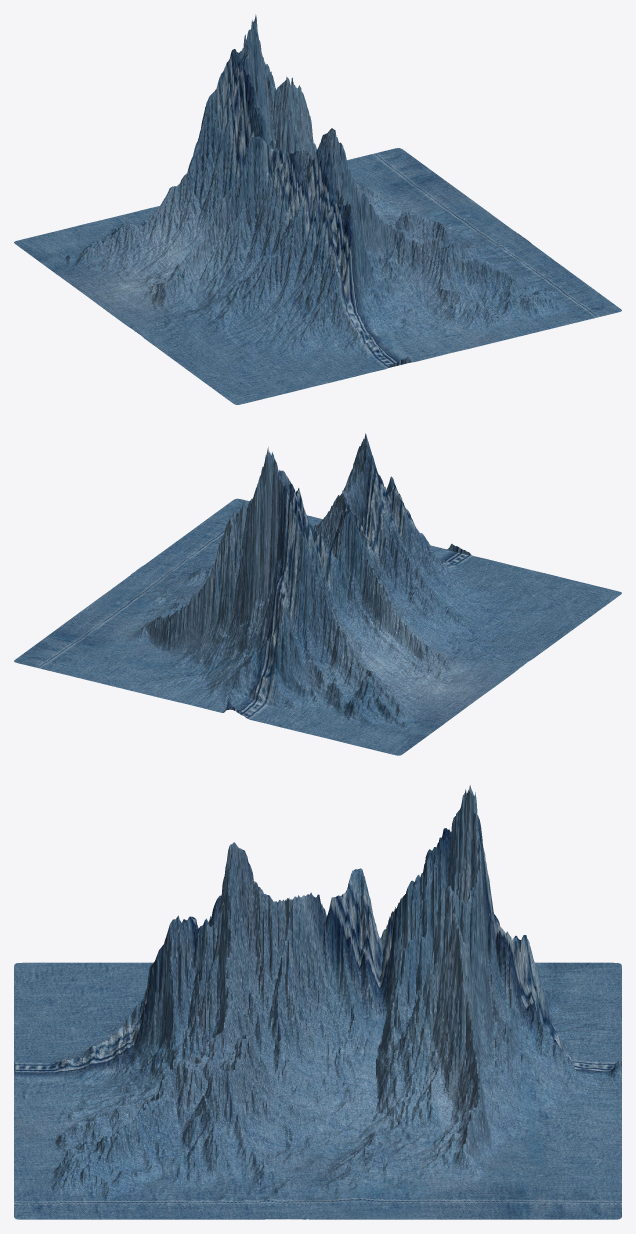
The model's file is mountain5.glb.
The picture shows the model from 3 angles, top to bottom: view 1: azimuth 30°, elevation 25°; view 2: azimuth 150°, elevation 25°; view 3: azimuth 270°, elevation 25°; orthographic projection. The views are drawn at different scales.
Parts seen in each view (by area): view 1: Plane; view 2: Plane; view 3: Plane.
Part boxes in pixels (<box>): Plane: <box>14,14,621,404</box>; Plane: <box>14,433,621,755</box>; Plane: <box>14,785,621,1219</box>.
Bounding box in the file's own units: 11.35 × 6.24 × 11.35.
Materials: 1 (1 with a texture image).
